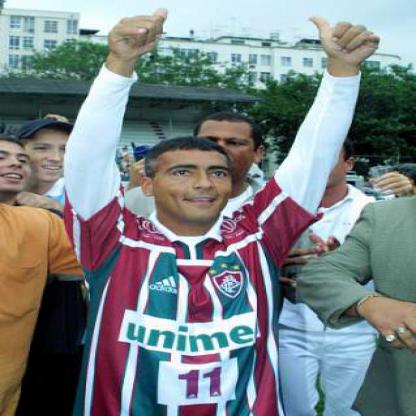face: (154, 139, 234, 224), (193, 115, 259, 179), (24, 121, 80, 183), (1, 138, 36, 196)
